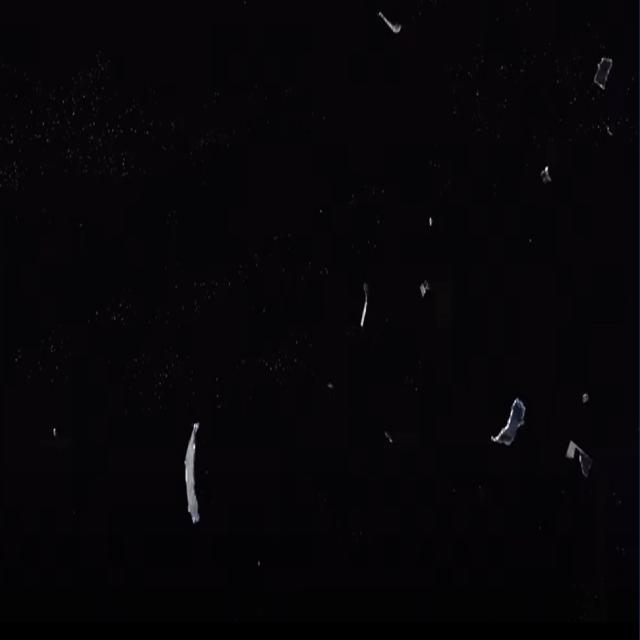large_debris: (173, 380, 218, 542), (485, 386, 527, 470), (373, 5, 416, 75), (559, 422, 598, 488), (591, 42, 619, 108), (360, 279, 377, 339)
